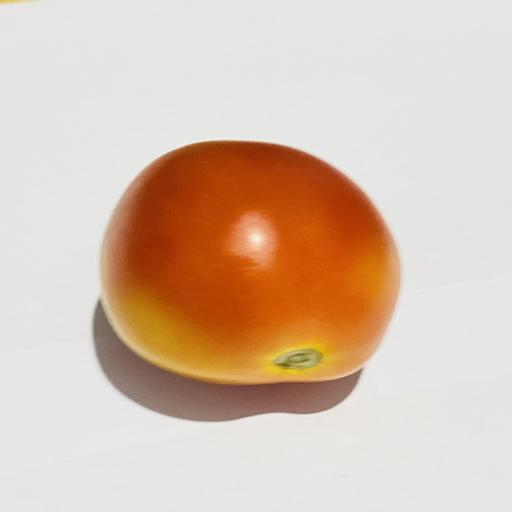ripe: (101, 141, 400, 384)
